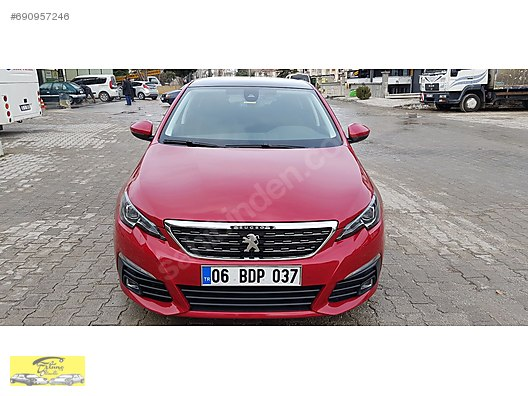peugeot: (106, 72, 399, 323)
